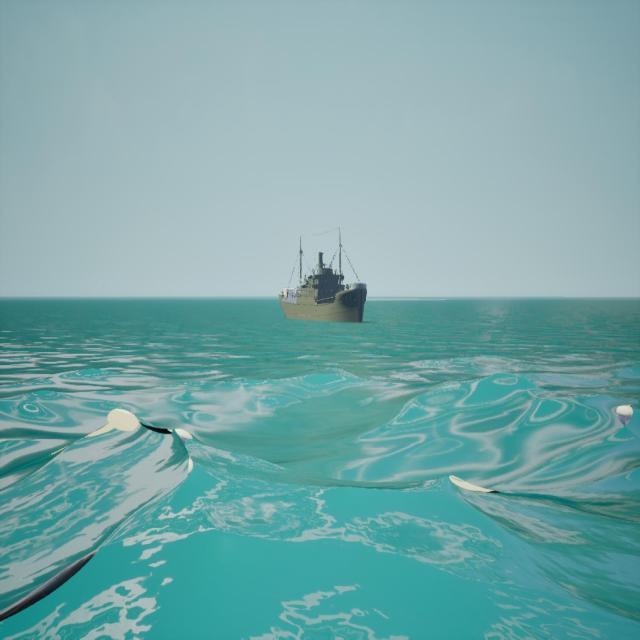fishing ship: (275, 229, 370, 325)
